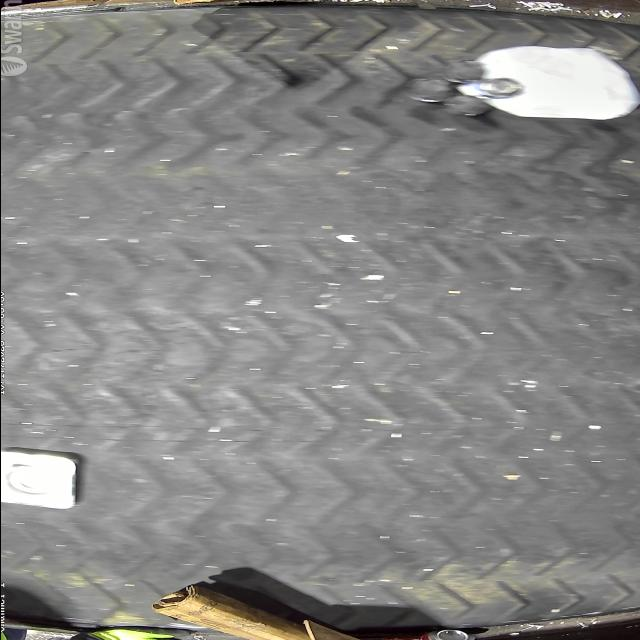can: (377, 629, 473, 640)
milk_jug: (450, 46, 640, 120)
